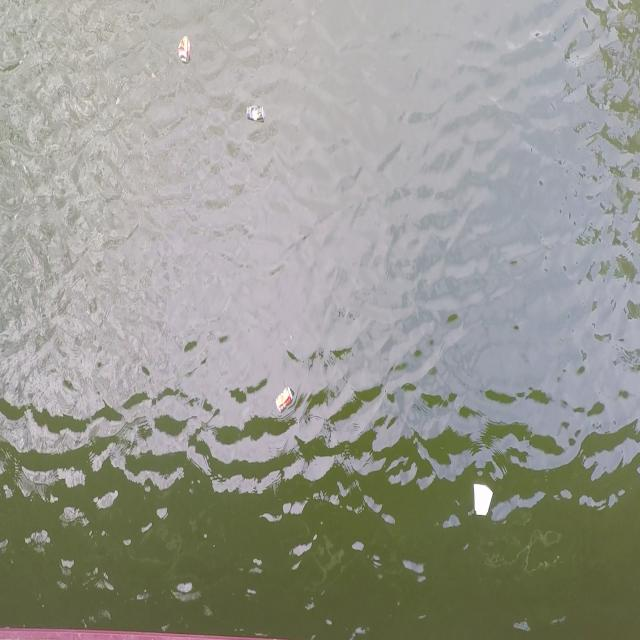Non plastique: (274, 377, 295, 420), (173, 29, 194, 66), (244, 101, 272, 126)
